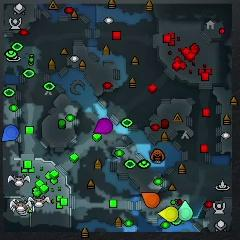p1: (2, 124, 19, 142)
p2: (178, 200, 193, 221)
p3: (94, 118, 114, 134)
p4: (159, 206, 178, 221)
p5: (141, 192, 160, 208)
